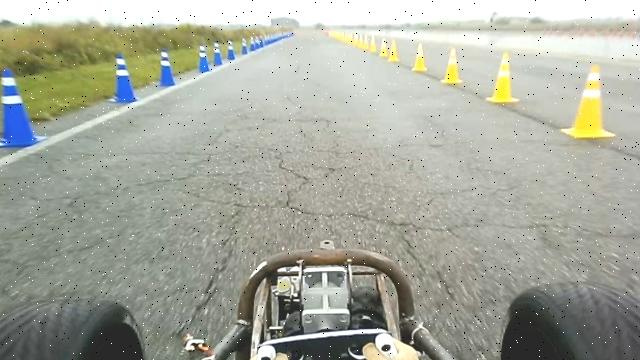blue cone: (0, 67, 47, 148), (107, 52, 138, 103), (157, 48, 177, 86), (198, 44, 210, 73), (212, 41, 223, 66)
yellow cone: (561, 63, 616, 139), (486, 51, 519, 104), (441, 47, 463, 84), (411, 42, 427, 72), (388, 39, 399, 62)
